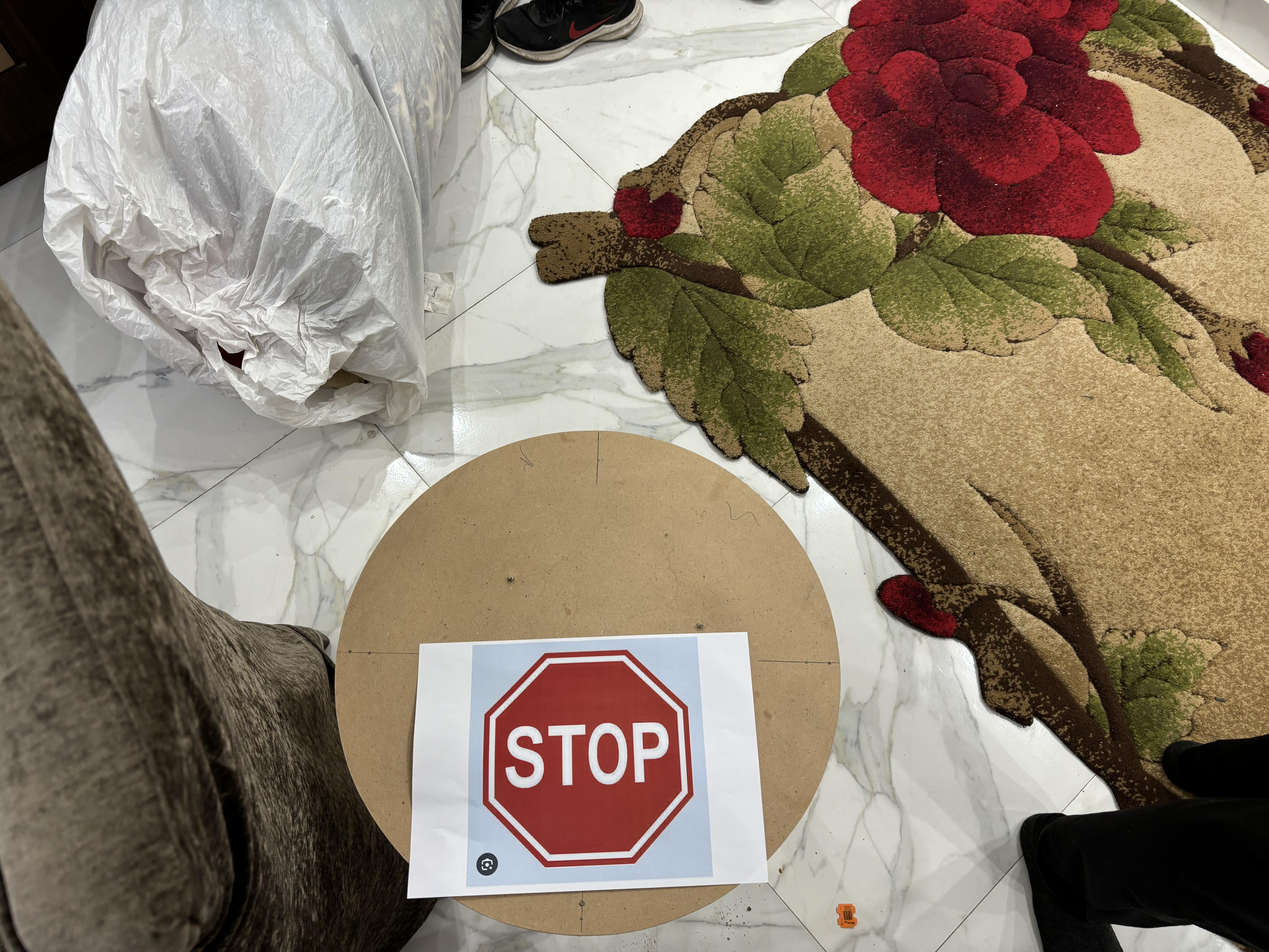Stop: (477, 643, 707, 866)
